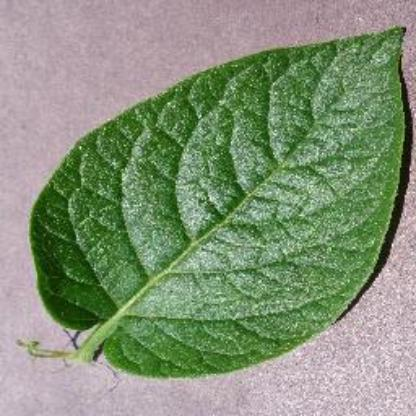Healthy-plant: (40, 13, 408, 363)
